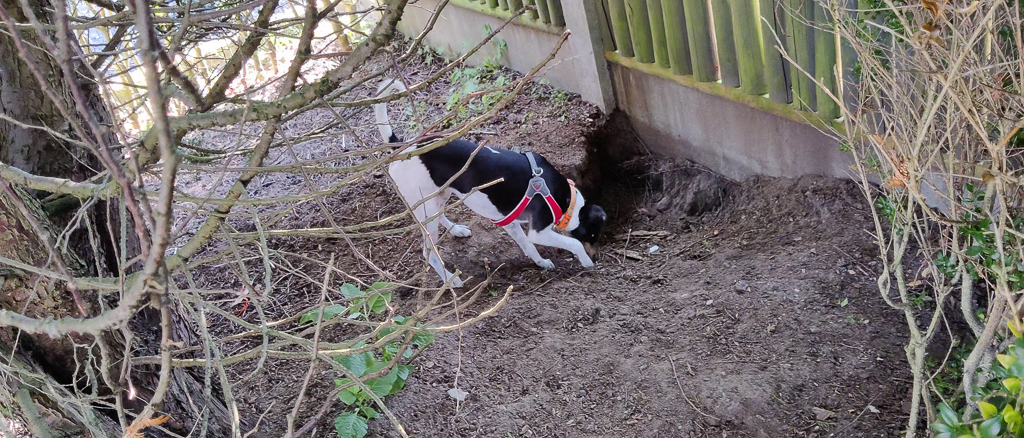Dog: (363, 69, 621, 295)
